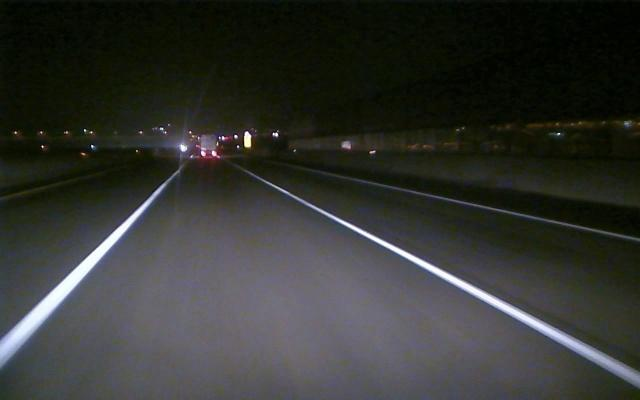lane: (266, 183, 637, 386), (3, 181, 169, 362), (353, 178, 639, 243)
